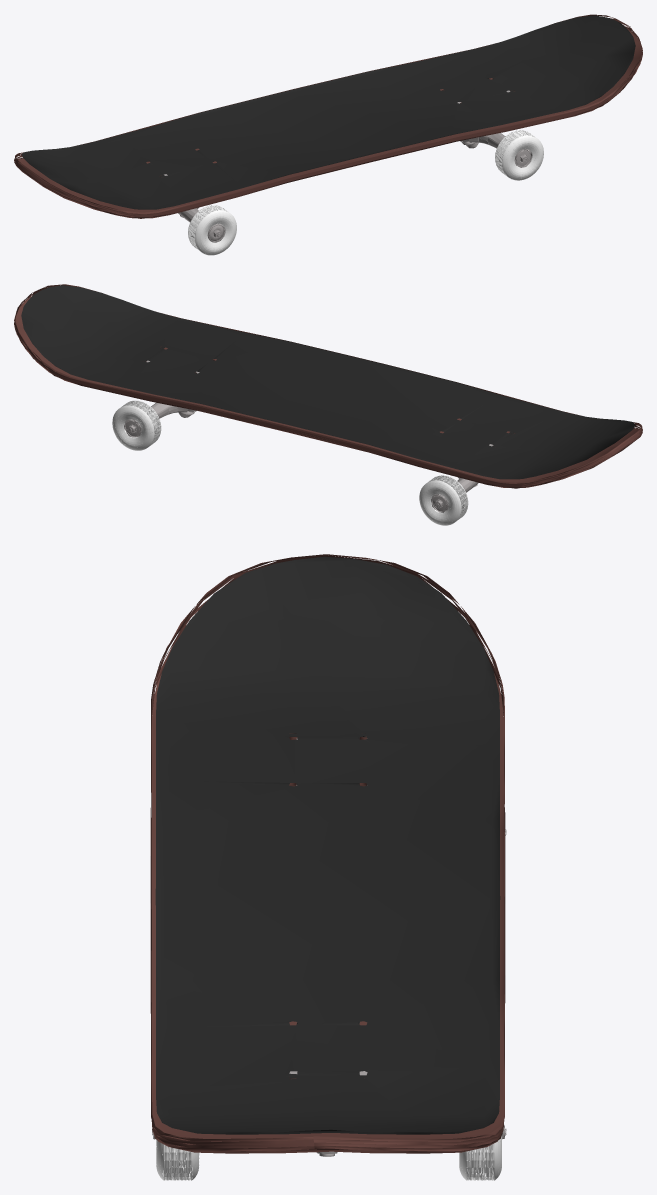
File: newfarm-board.glb
The picture shows the model from 3 angles, top to bottom: view 1: azimuth 30°, elevation 25°; view 2: azimuth 150°, elevation 25°; view 3: azimuth 270°, elevation 25°; orthographic projection. The views are drawn at different scales.
Visible parts, largest first — view 1: Text.001, Text.002; view 2: Text.001, Text.002; view 3: Text.001, Text.002.
Boxes of the visible parts, bbox=[...] form: Text.001: bbox=[14, 14, 642, 255]; Text.002: bbox=[15, 26, 642, 218]; Text.001: bbox=[14, 284, 642, 525]; Text.002: bbox=[14, 296, 642, 487]; Text.001: bbox=[150, 554, 506, 1180]; Text.002: bbox=[152, 673, 503, 1153].
Size of the model in its own units: 8.63 by 1.26 by 2.21.
2 materials, 1 textured.
